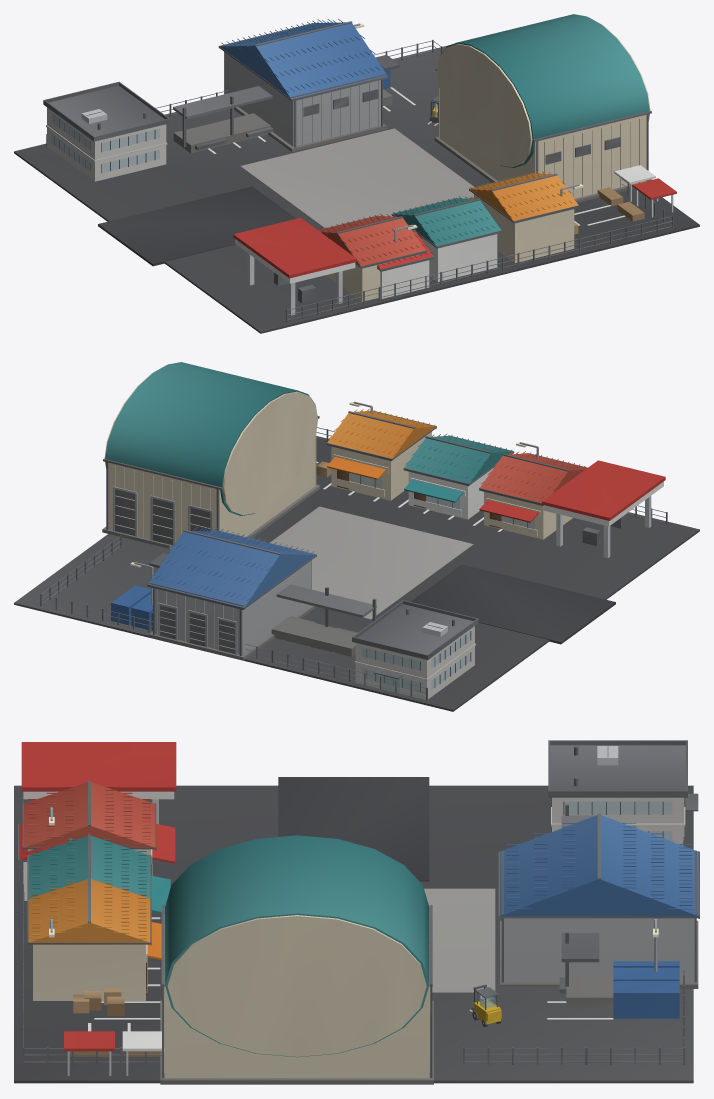
The model's file is Market_P2.fbx.
3 views of the same model, one above another, from view 1: azimuth 30°, elevation 25°; view 2: azimuth 150°, elevation 25°; view 3: azimuth 270°, elevation 25° (orthographic). The views are drawn at different scales.
Visible parts, largest first — view 1: Market.Pad, Market.WH1, Market.WH2, Market.Office, Market.Shop2, Market.Fuel, Market.Shop1, Market.Shop0, Market.Dock, Market.Fence, Market.Stalls, Market.FuelShop; view 2: Market.Pad, Market.WH1, Market.WH2, Market.Office, Market.Shop2, Market.Shop1, Market.Fuel, Market.Shop0, Market.Dock, Market.Fence, Market.Goods; view 3: Market.Pad, Market.WH1, Market.WH2, Market.Shop2, Market.Office, Market.Fuel, Market.Shop0, Market.Shop1, Market.Goods, Market.Dock, Market.Fence, Market.Stalls (+3 smaller).
Boxes of the visible parts, <box> form: Market.Pad: <box>14,45,699,333</box>; Market.WH1: <box>434,14,651,202</box>; Market.WH2: <box>218,19,388,151</box>; Market.Office: <box>43,81,169,181</box>; Market.Shop2: <box>469,171,579,262</box>; Market.Fuel: <box>233,218,356,315</box>; Market.Shop1: <box>391,196,502,281</box>; Market.Shop0: <box>318,213,426,301</box>; Market.Dock: <box>173,55,400,153</box>; Market.Fence: <box>46,40,673,322</box>; Market.Stalls: <box>597,165,676,221</box>; Market.FuelShop: <box>377,229,434,298</box>; Market.Pad: <box>14,436,699,711</box>; Market.WH1: <box>102,362,320,548</box>; Market.WH2: <box>147,527,316,660</box>; Market.Office: <box>352,600,478,699</box>; Market.Shop2: <box>326,408,436,500</box>; Market.Shop1: <box>403,434,514,519</box>; Market.Fuel: <box>542,460,665,558</box>; Market.Shop0: <box>479,451,587,539</box>; Market.Dock: <box>149,553,376,656</box>; Market.Fence: <box>40,427,667,700</box>; Market.Goods: <box>111,461,331,630</box>; Market.Pad: <box>14,777,693,1083</box>; Market.WH1: <box>160,835,433,1084</box>; Market.WH2: <box>498,813,699,988</box>; Market.Shop2: <box>27,877,161,1000</box>; Market.Office: <box>548,740,698,845</box>; Market.Fuel: <box>21,742,176,824</box>; Market.Shop0: <box>22,780,175,875</box>; Market.Shop1: <box>27,834,170,913</box>; Market.Goods: <box>73,961,679,1018</box>; Market.Dock: <box>559,804,613,1008</box>; Market.Fence: <box>22,792,684,1064</box>; Market.Stalls: <box>64,1031,164,1075</box>.
Bounding box in the file's own units: 7707 × 2021 × 7267.
